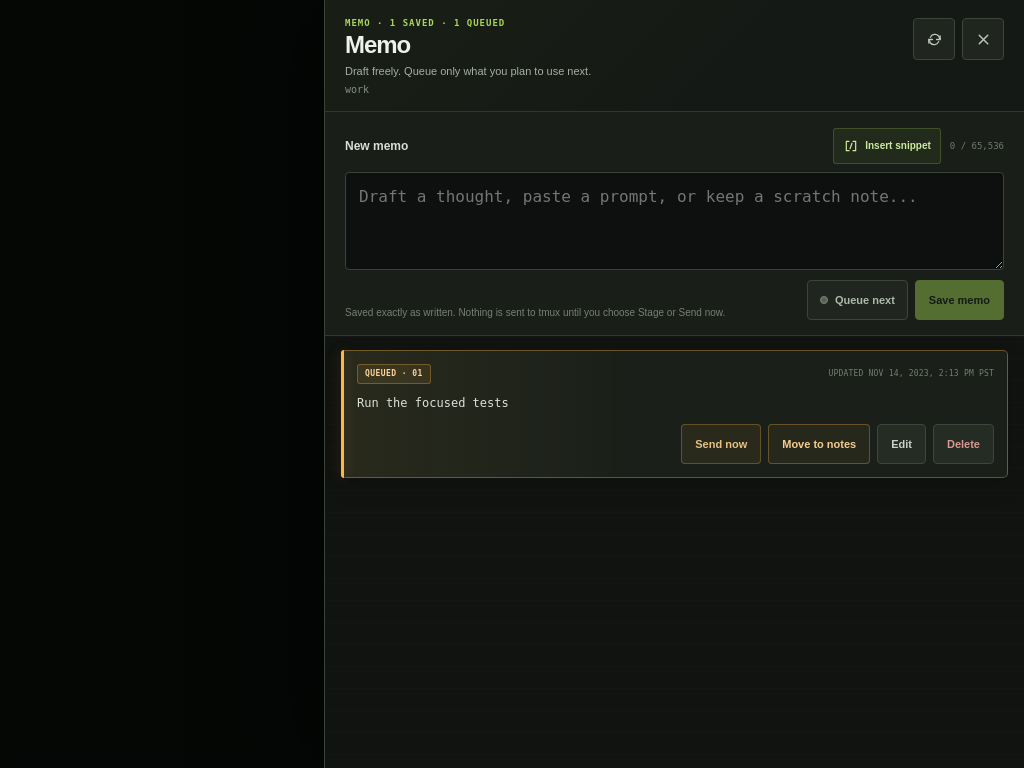
it: MessageQueueDialog › removes a queued memo only after terminal delivery is acknowledged
expect the text "Run the focused tests" is shown: met, box [357, 396, 509, 410]
Click the button "Send now": (721, 444) [681, 424, 761, 464]
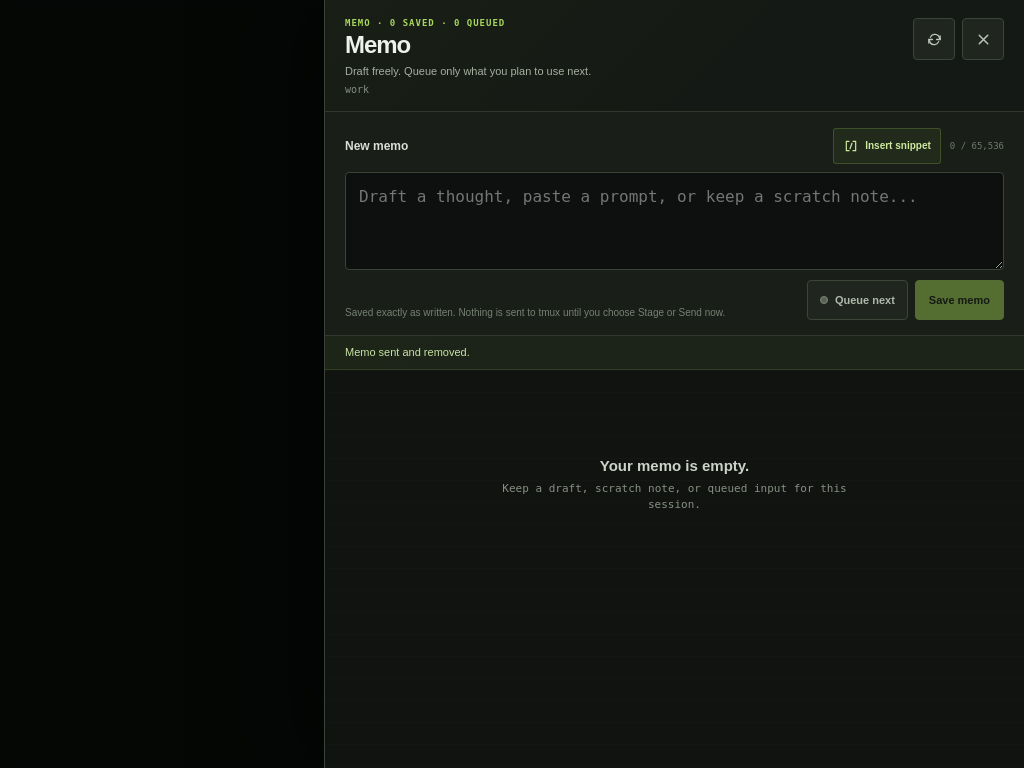
expect the text "Memo sent and removed." is shown: met, box [325, 336, 1023, 370]
expect the text "Run the focused tests" is gone: met
expect the text "Your memo is empty." is shown: met, box [600, 457, 749, 474]
